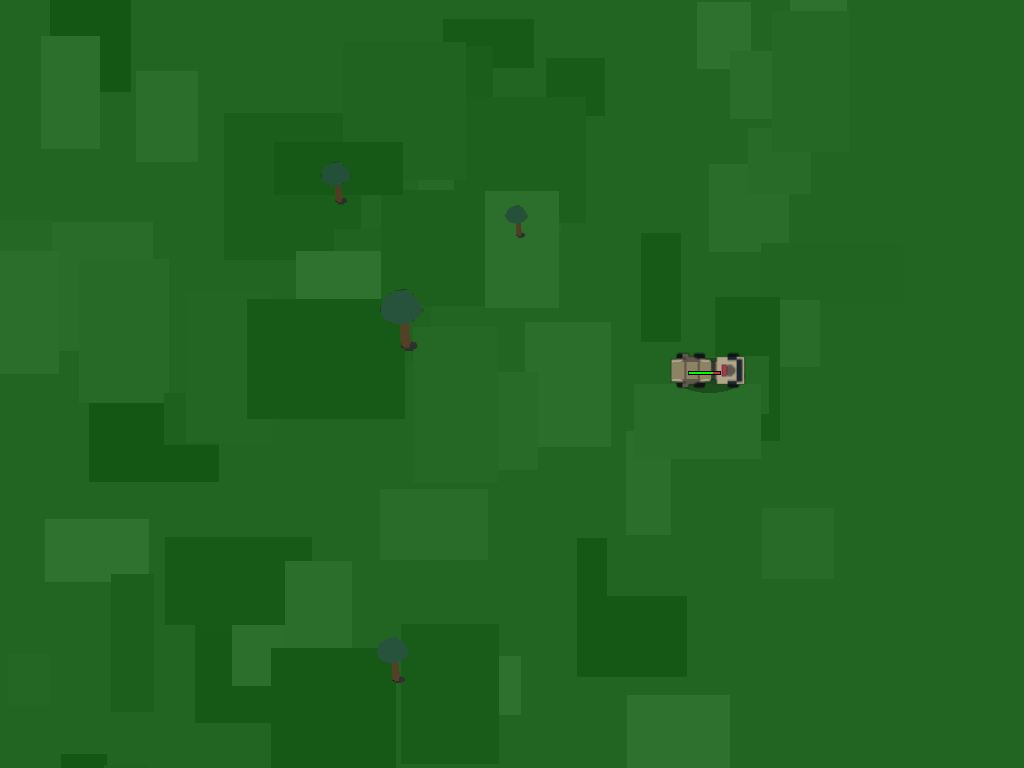HIMARS: (670, 336, 737, 403)
